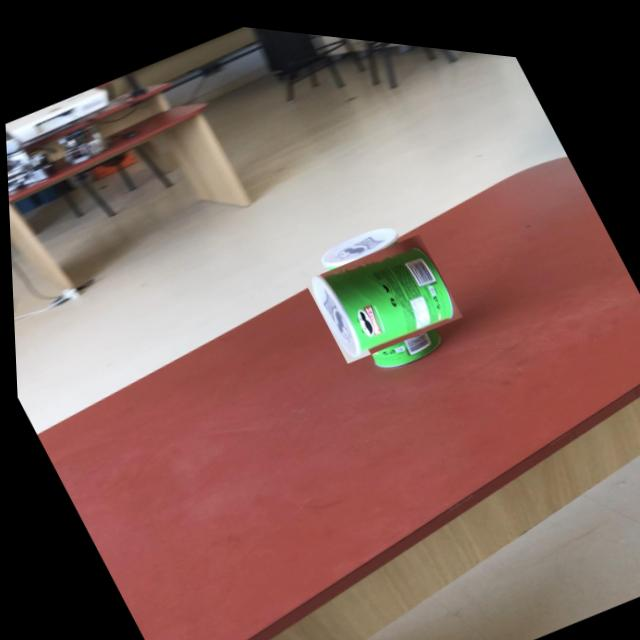a pringles: (304, 209, 459, 371)
